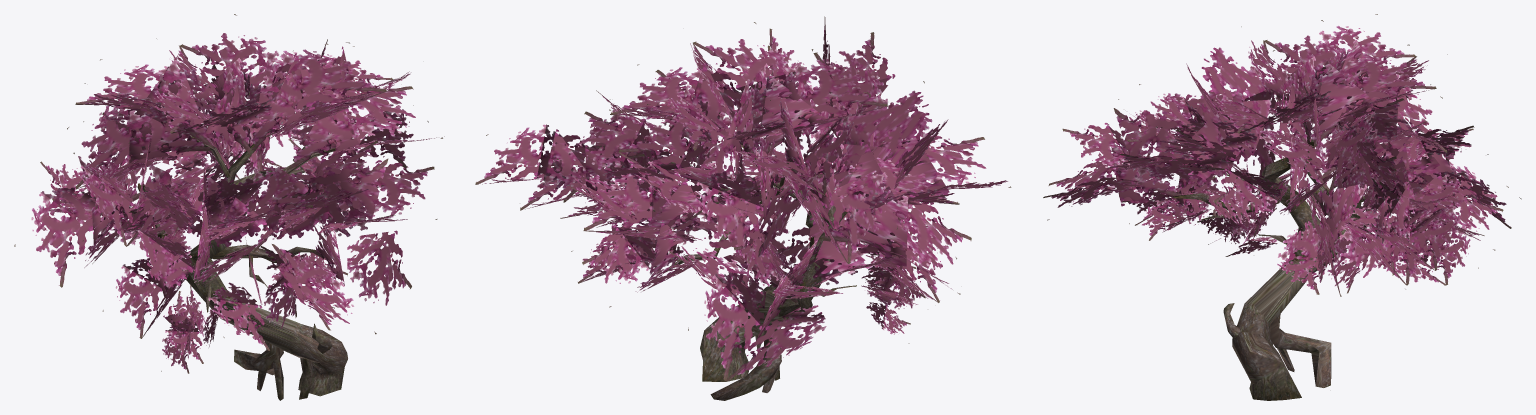
3 views of the same model, side by side, from view 1: azimuth 30°, elevation 25°; view 2: azimuth 150°, elevation 25°; view 3: azimuth 270°, elevation 25° (orthographic). The views are drawn at different scales.
Visible parts, largest first — view 1: DrawCall_1049; view 2: DrawCall_1049; view 3: DrawCall_1049.
Part boxes in pixels (bbox=[...]): DrawCall_1049: bbox=[14, 14, 444, 400]; DrawCall_1049: bbox=[475, 16, 1011, 400]; DrawCall_1049: bbox=[1043, 14, 1521, 400].
Size of the model in its own units: 16.67 by 12.06 by 16.44.
Materials: 1 (1 with a texture image).
